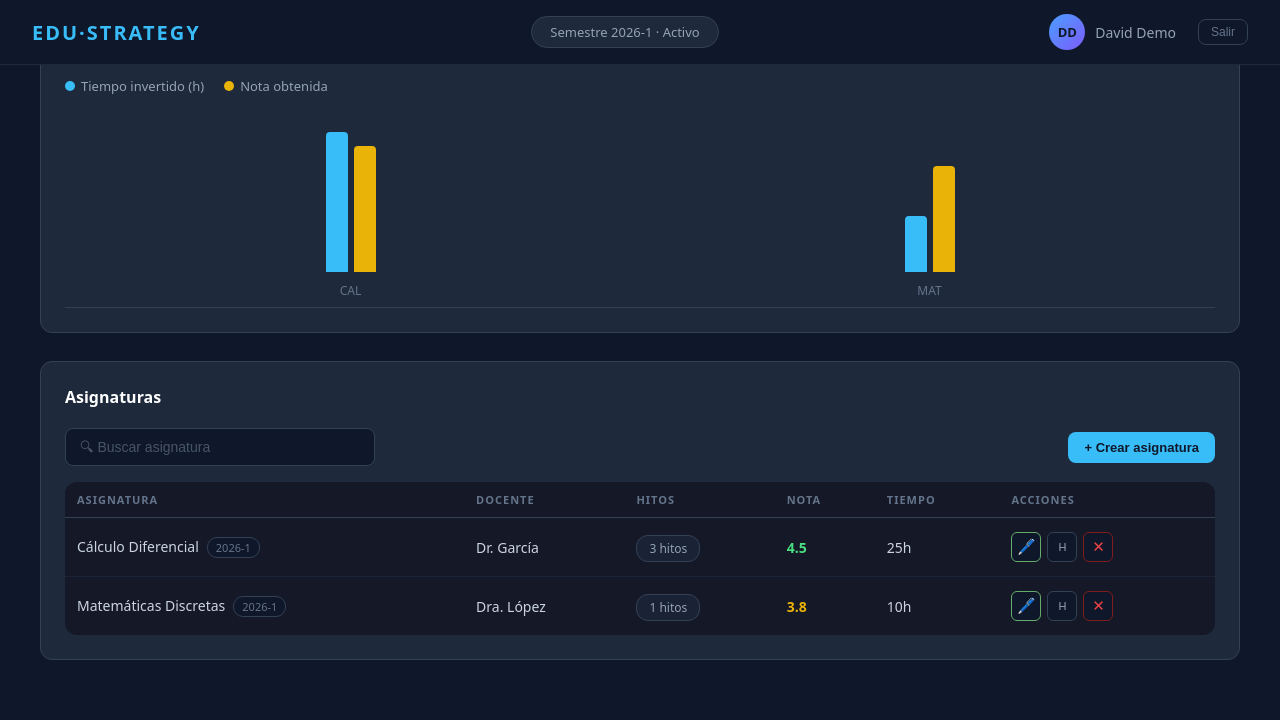
Test case: Integración - Dashboard › elimina una asignatura tras confirmar y la quita de la tabla
(page scrolled)
Expected: the text "Cálculo Diferencial 2026-1" is shown, [65,518,464,576]
Click the button titled "Eliminar asignatura" in the row of "Cálculo Diferencial": (1098, 547) [1083,532,1113,562]
(page scrolled)
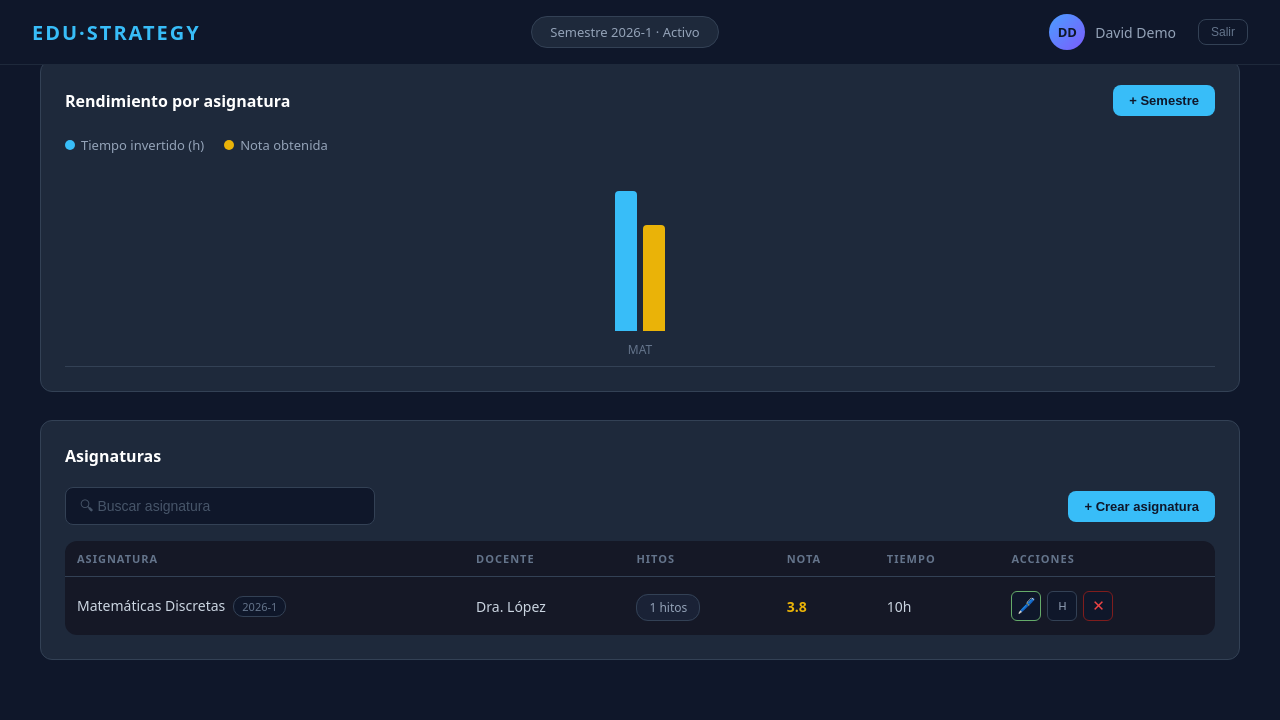
Expected: the text "Cálculo Diferencial" is gone
